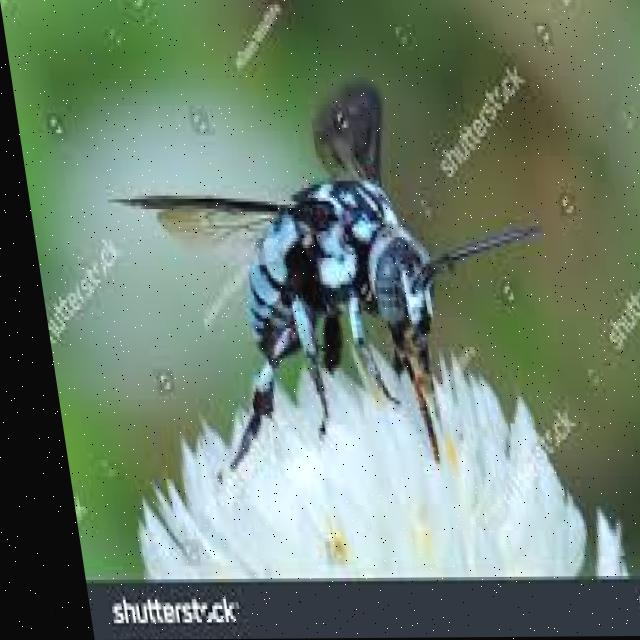Thyreus: (85, 68, 557, 487)
